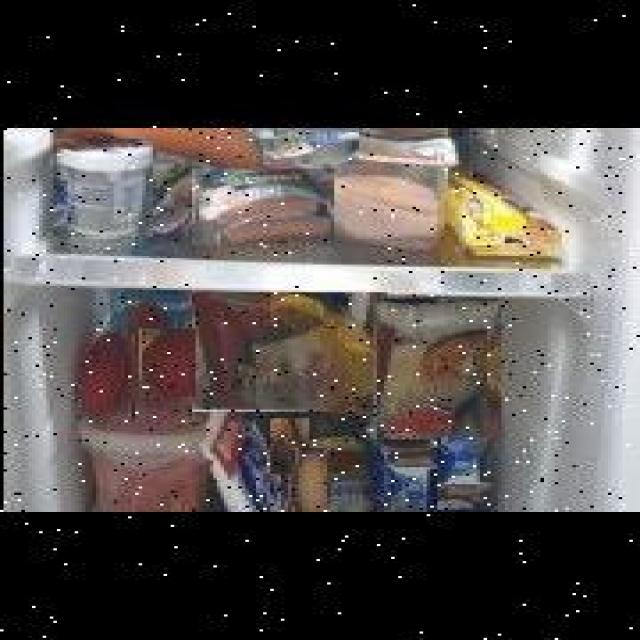carrot: (46, 128, 267, 177)
cheese: (50, 140, 149, 238), (270, 128, 356, 164)
egg: (288, 448, 324, 512), (266, 418, 306, 474)
grated_cheese: (370, 300, 498, 440)
sausage: (188, 170, 330, 247)
tomato: (78, 333, 132, 420), (135, 329, 192, 398)
tortillas: (192, 292, 388, 412)
yogurt: (434, 437, 494, 512)
